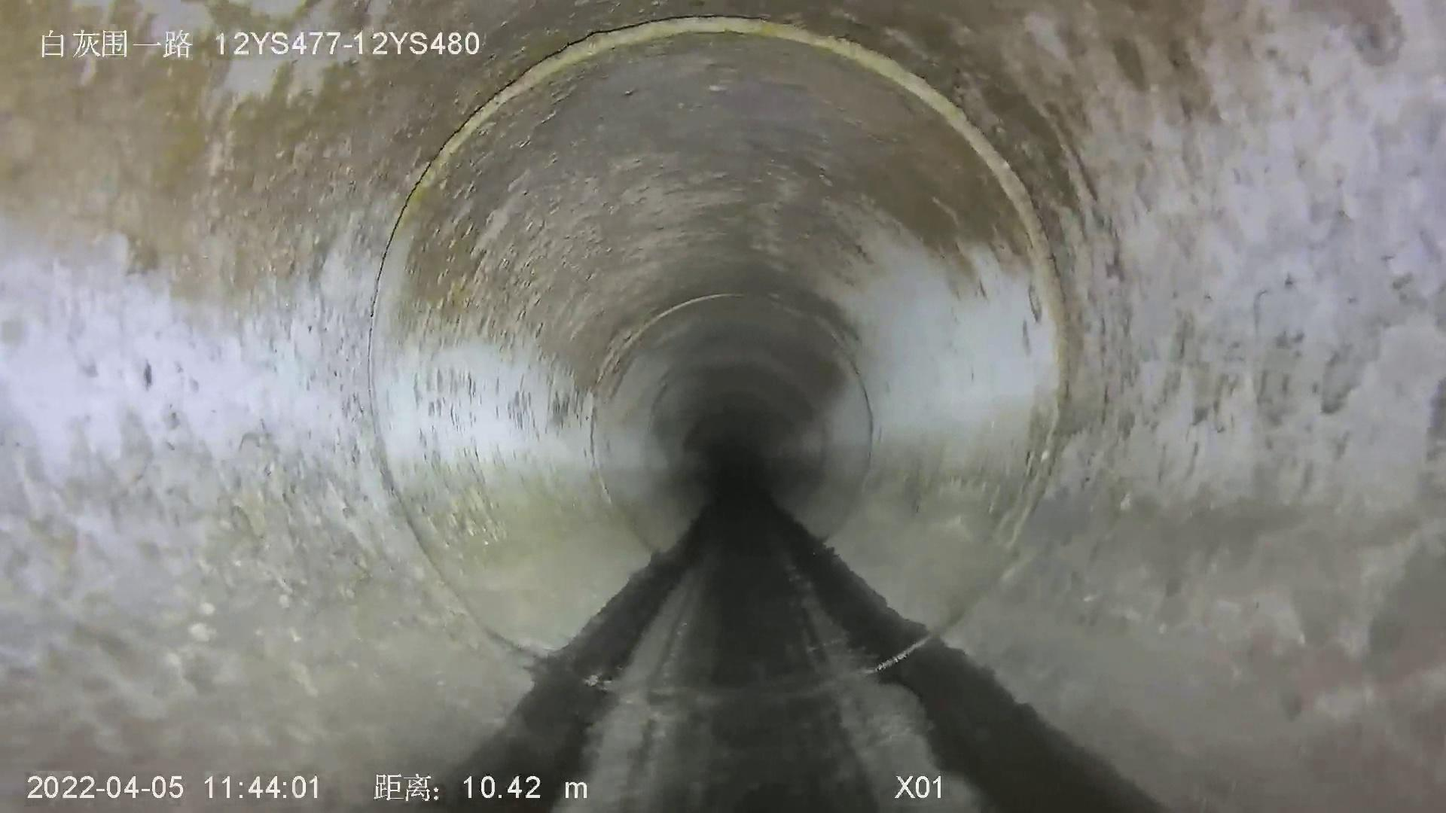CKTJ: (391, 17, 1060, 316)
